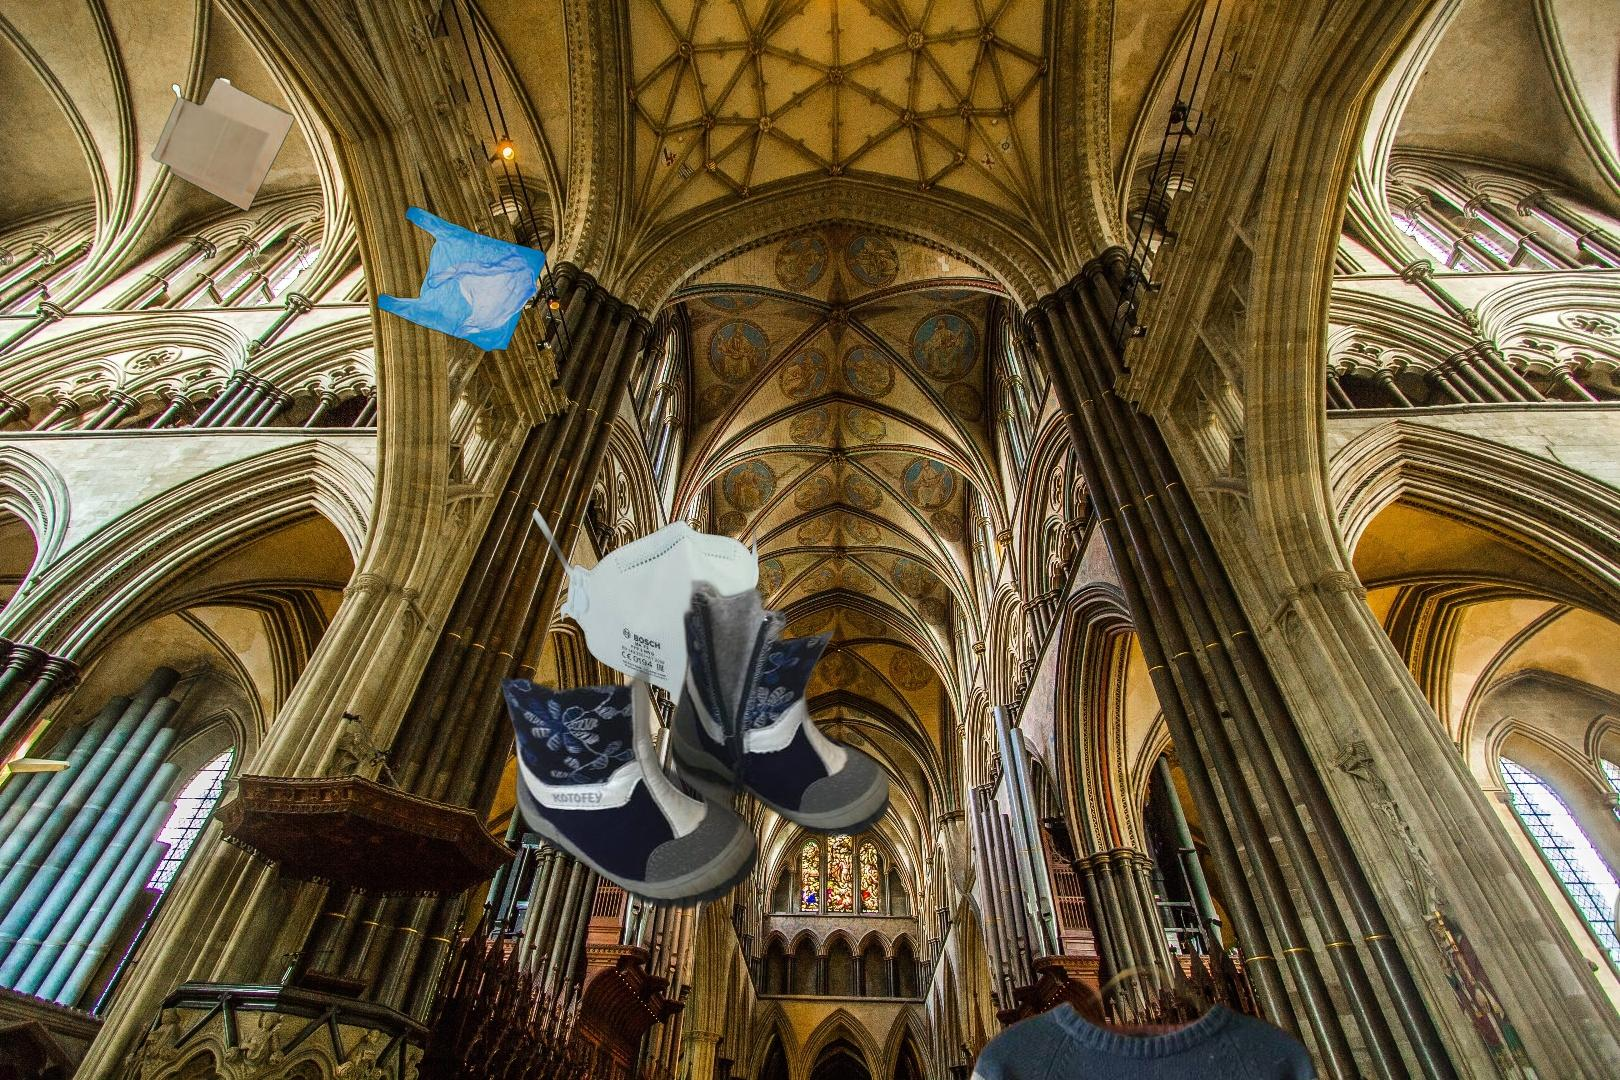clothes: (946, 946, 1346, 1080)
metal-cans: (1612, 818, 1620, 963)
paper-bag: (148, 39, 297, 215)
plastic-bag: (375, 202, 550, 356)
shoes: (495, 532, 890, 912)
trash: (526, 503, 762, 711)
